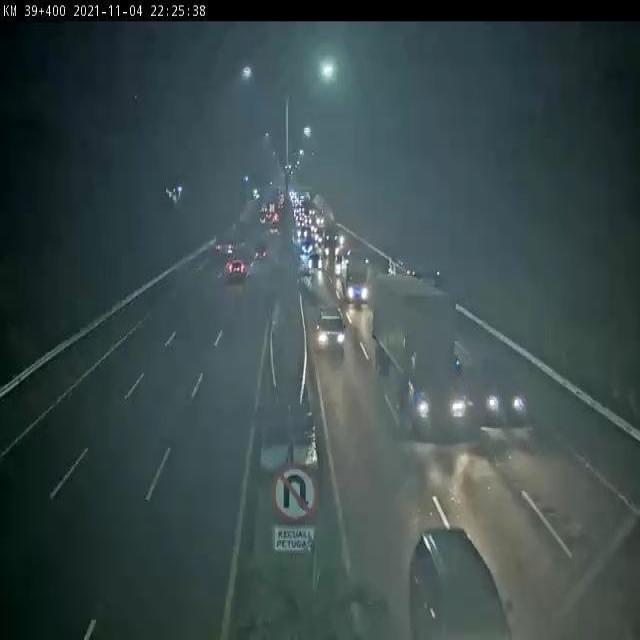Car: (408, 527, 516, 640), (315, 305, 347, 355), (226, 258, 248, 281), (308, 253, 324, 269)
Truck: (369, 272, 470, 436), (340, 252, 368, 300)
